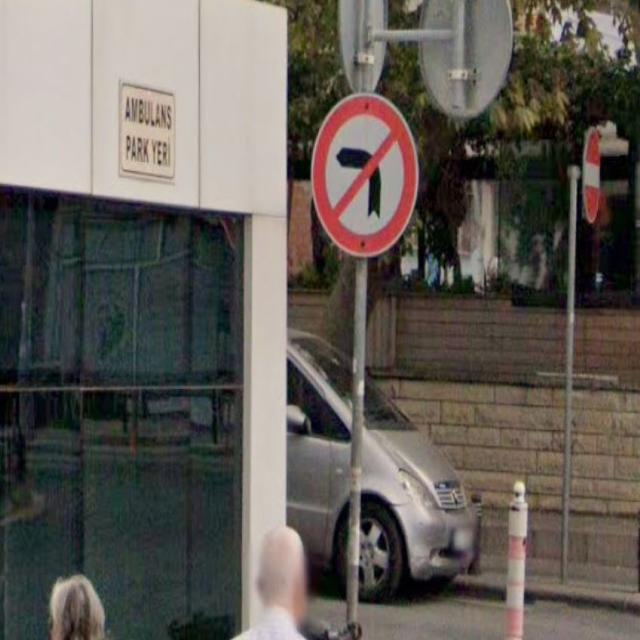girisyok: (584, 128, 601, 222)
soladonulmez: (311, 92, 419, 258)
